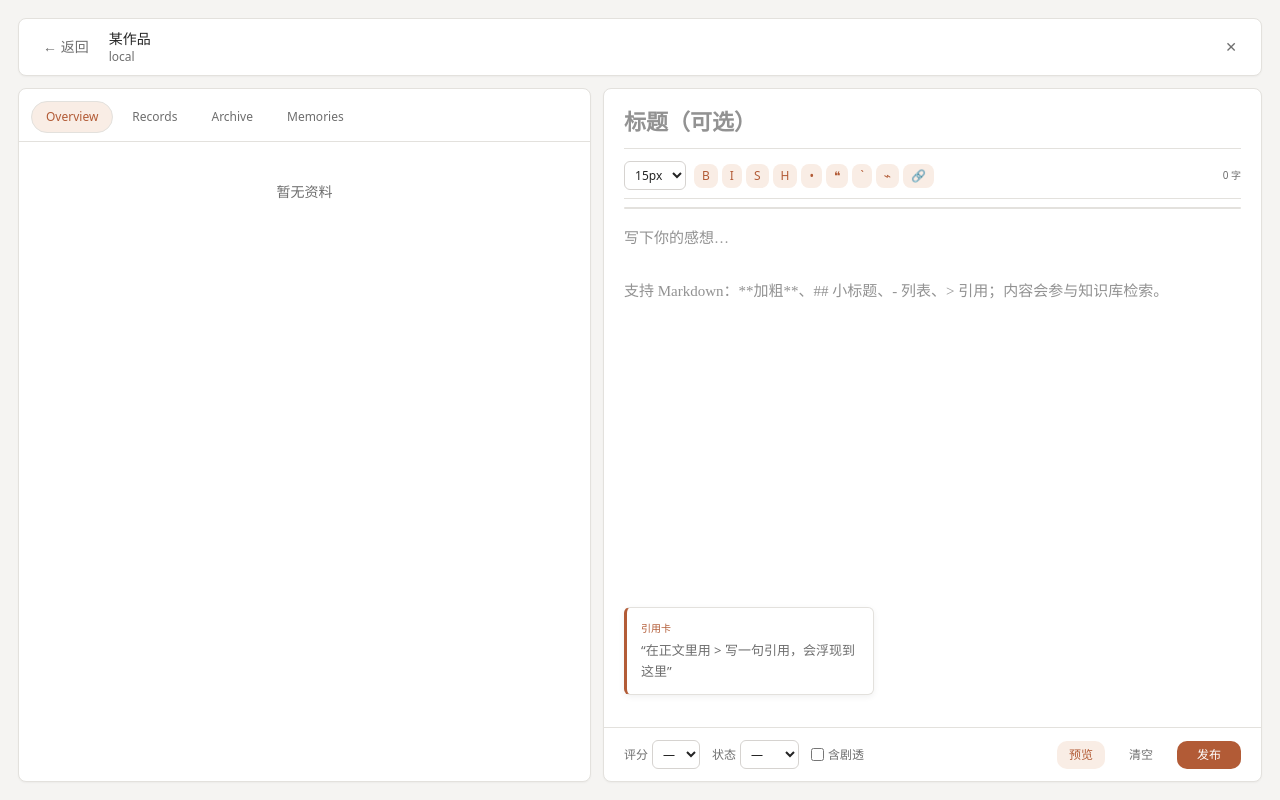
ReviewStudio 沉浸式书写 › Records 标签：已有书评按存储字号渲染为文档
Click the button "Records". click: (155, 117)
box: [117,101,192,133]
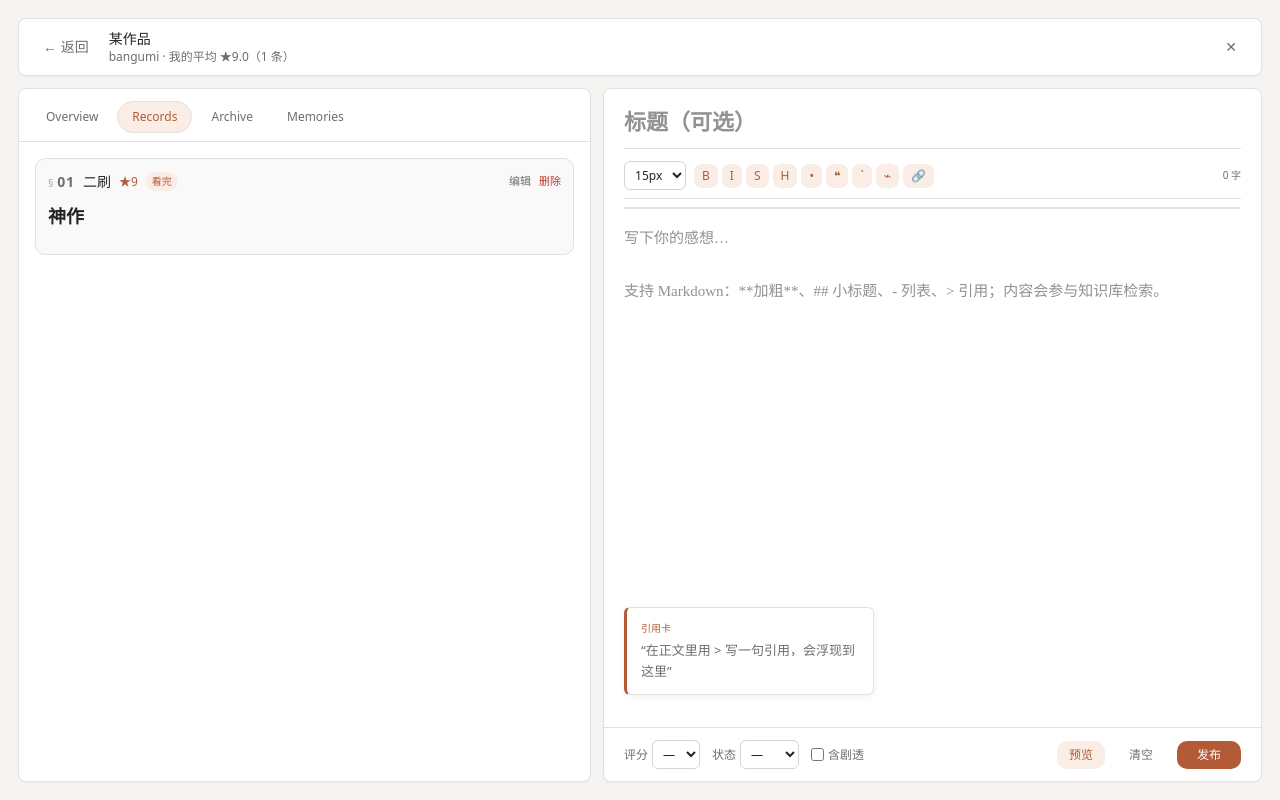
expect the text "神作" is shown: met, box [48,207,84,227]
